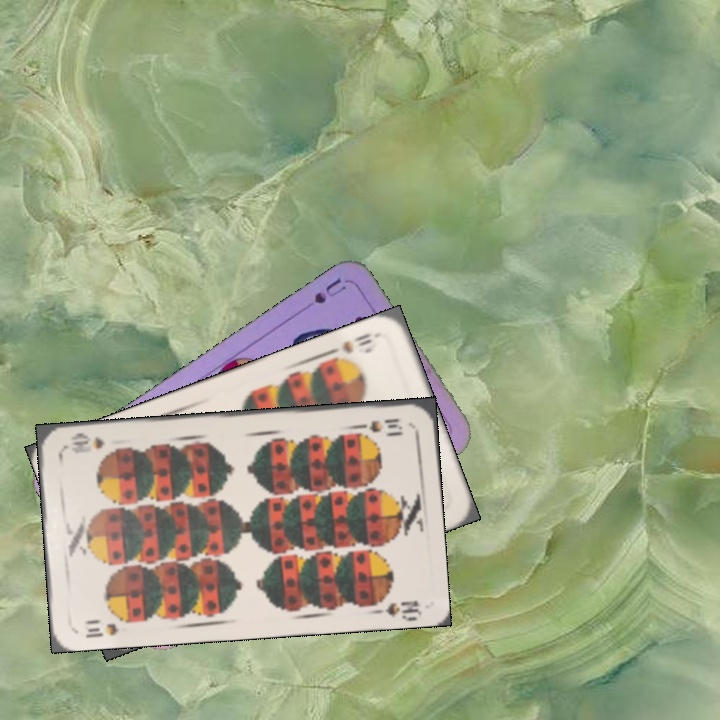S10: (325, 328, 374, 357), (351, 414, 406, 436), (81, 619, 121, 641)
SU: (294, 274, 349, 316)
